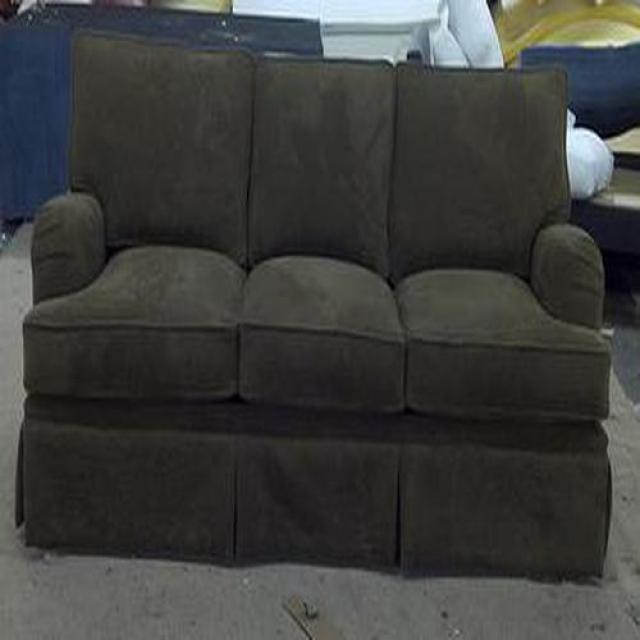sofa: (14, 31, 614, 581)
